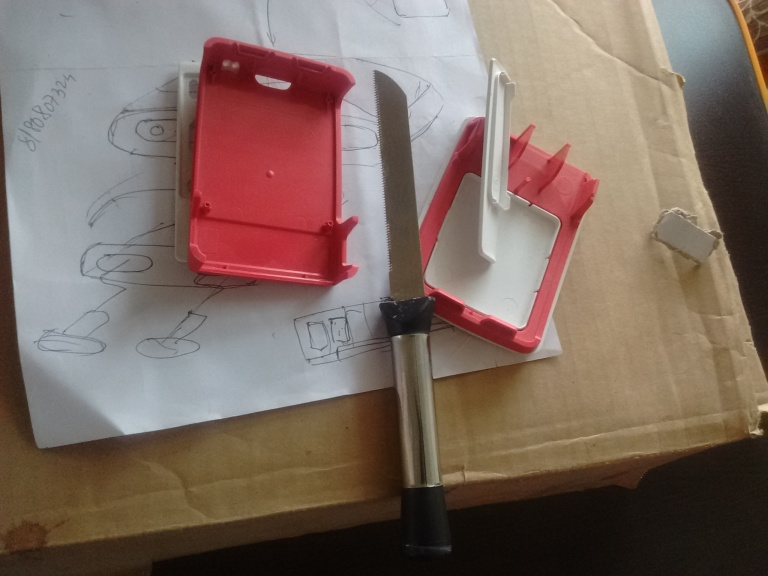knife: (368, 67, 457, 559)
